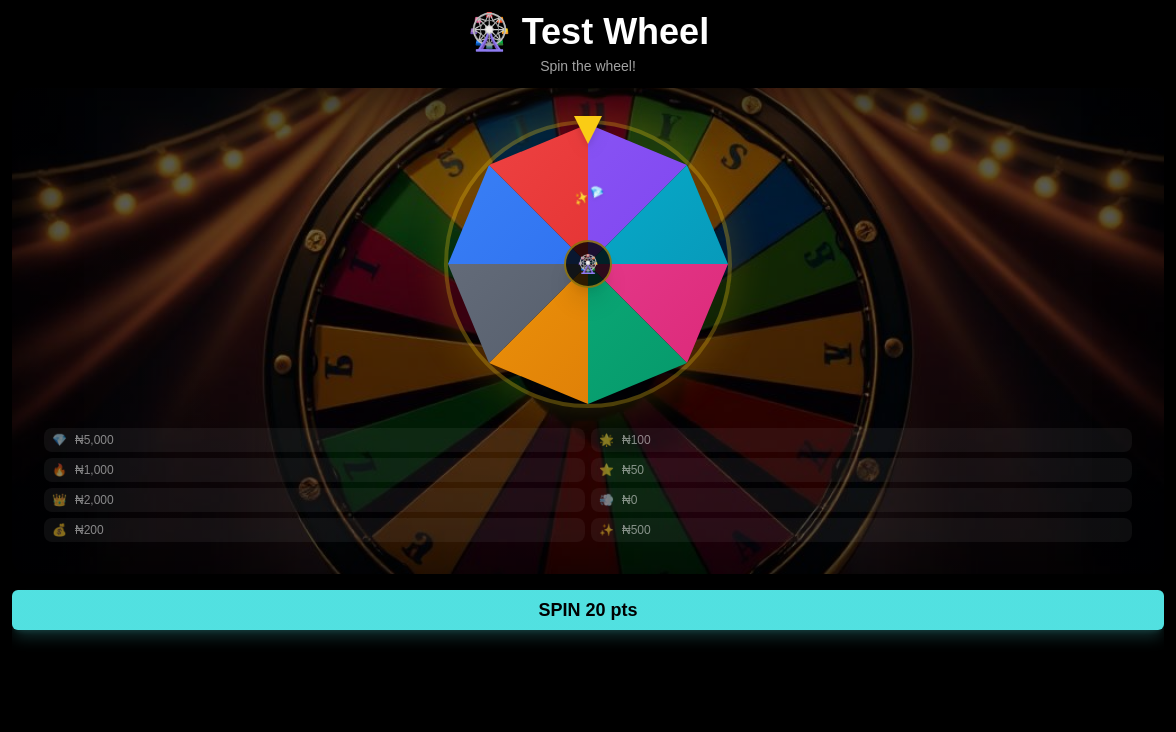
WheelEngine — displayed prize matches recorded prize › full win window: shows prize == base * WHEEL.prizeMultiplier
This screenshot has width=1176, height=732.
Click the button at (588, 610), box [12,590,1164,630]
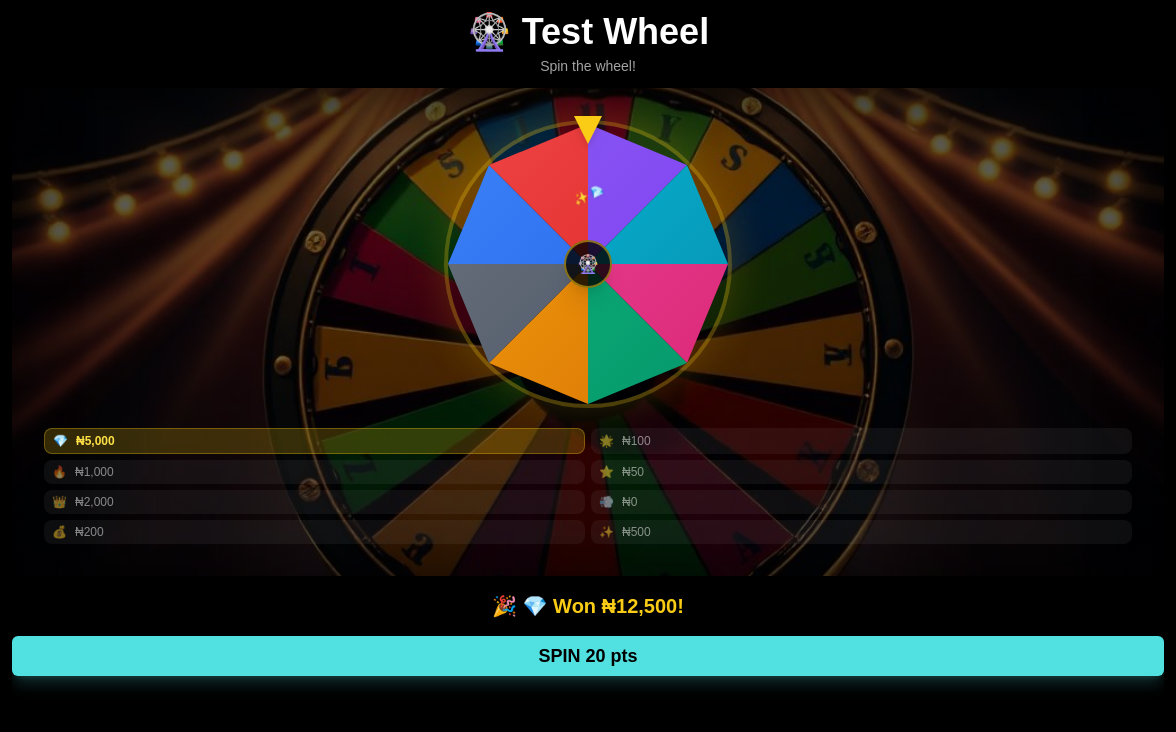
Expected: the text "🎉 💎 Won ₦12,500!" is shown, [492,595,684,617]
